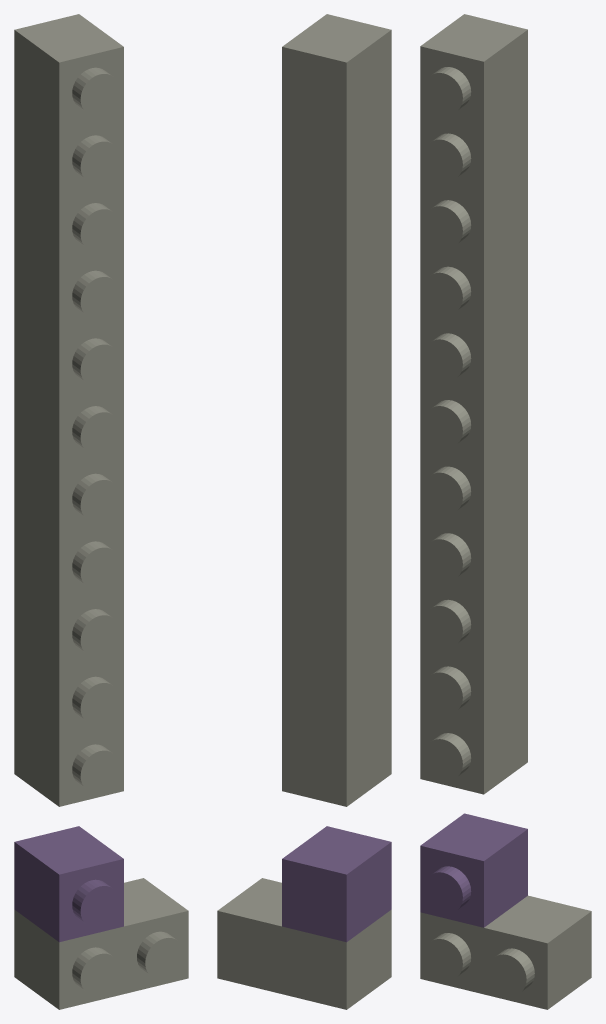
Rendered from current.glb.
3 renders of one model, left to right at view 1: azimuth 30°, elevation 25°; view 2: azimuth 150°, elevation 25°; view 3: azimuth 330°, elevation 25°, orthographic.
Parts seen in each view (by area): view 1: world; view 2: world; view 3: world.
Boxes of the visible parts, x1,y1,x2,y2 form: world: (14, 14, 188, 1009); world: (217, 14, 391, 1009); world: (420, 14, 591, 1009).
Size of the model in its own units: 16 by 112 by 11.4.
